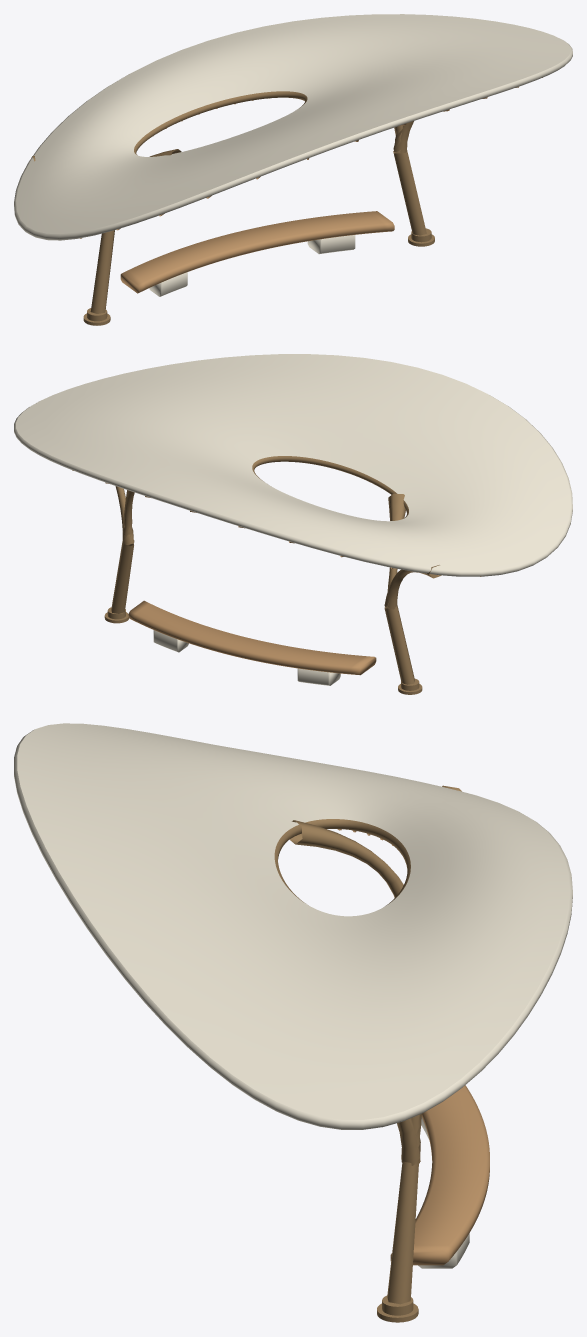
Rendered from quay-pavilion.glb.
3 views of the same model, one above another, from view 1: azimuth 30°, elevation 25°; view 2: azimuth 150°, elevation 25°; view 3: azimuth 270°, elevation 25° (orthographic). The views are drawn at different scales.
Parts seen in each view (by area): view 1: Porcelain shell / upper leaf, Soffit / radial lamella, Oculus reveal; view 2: Porcelain shell / upper leaf, Soffit / radial lamella, Oculus reveal; view 3: Porcelain shell / upper leaf, Soffit / radial lamella, Oculus reveal.
Part boxes in pixels (box(x1,y1,x2,y2)): Porcelain shell / upper leaf: box(14, 14, 572, 296); Soffit / radial lamella: box(80, 77, 542, 293); Oculus reveal: box(31, 91, 434, 325); Porcelain shell / upper leaf: box(14, 354, 572, 685); Soffit / radial lamella: box(72, 470, 480, 675); Oculus reveal: box(104, 456, 441, 694); Porcelain shell / upper leaf: box(14, 723, 572, 1268); Soffit / radial lamella: box(337, 829, 489, 1265); Oculus reveal: box(274, 785, 461, 1322).
Bounding box in the file's own units: 10.56 × 4.34 × 5.9.
